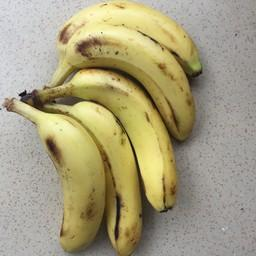Banana Ripe: (56, 71, 183, 225), (48, 86, 151, 256), (7, 95, 112, 256), (65, 31, 206, 147), (51, 2, 218, 80)
